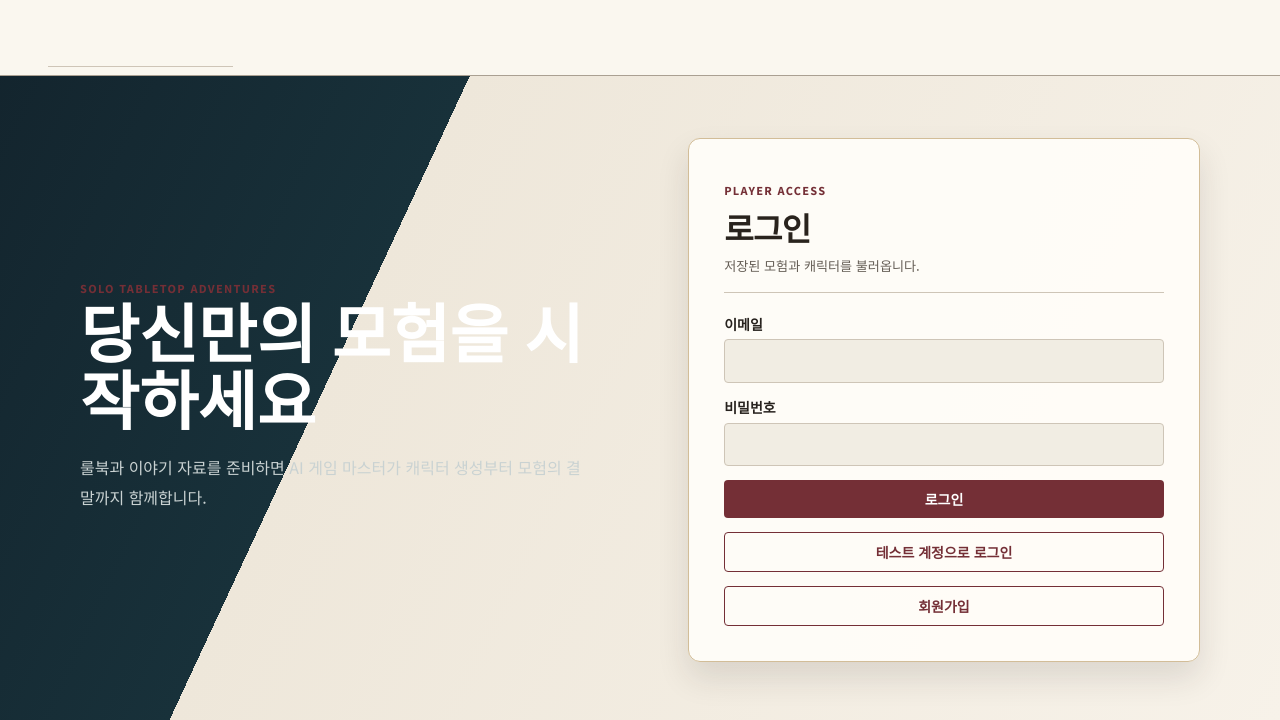
Test: authentication flow › expires authentication, hides navigation, and announces reauthentication
The image size is (1280, 720).
(page scrolled)
In the field labelled "이메일": (944,361) [724,339,1164,383], type "hero@example.com"
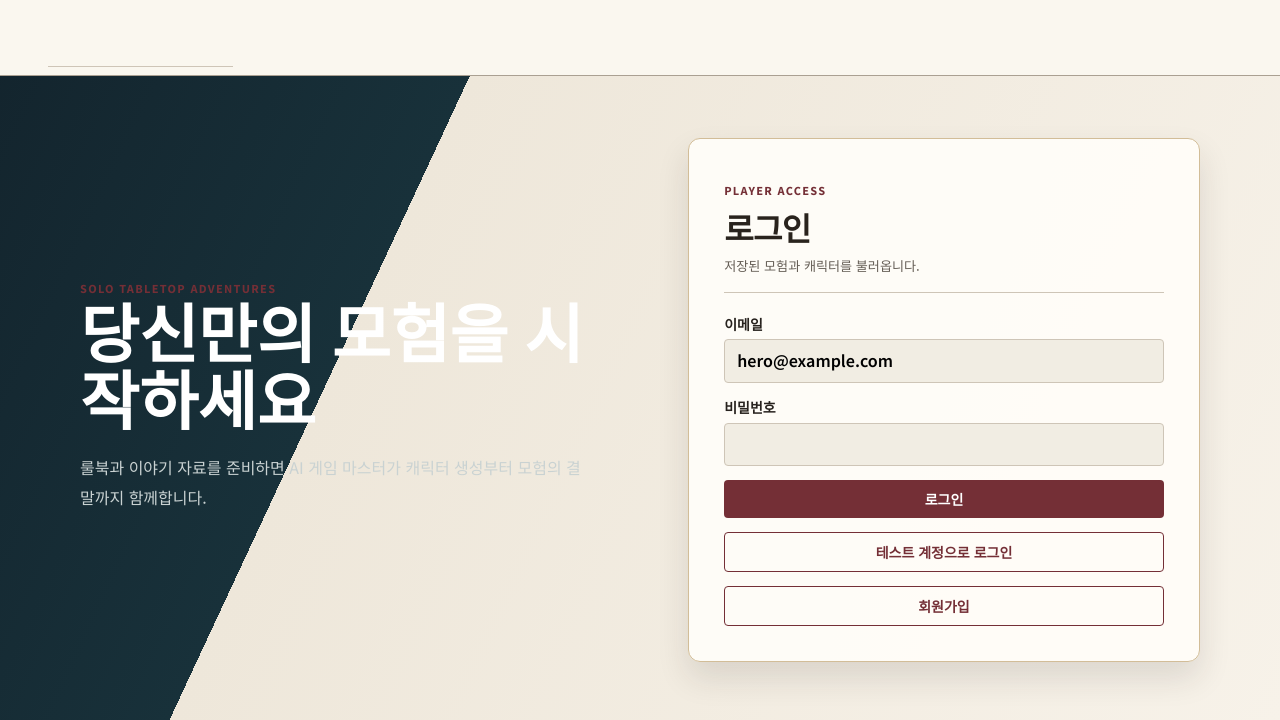
In the password field labelled "비밀번호": (944,444) [724,422,1164,466], type "swordfish"
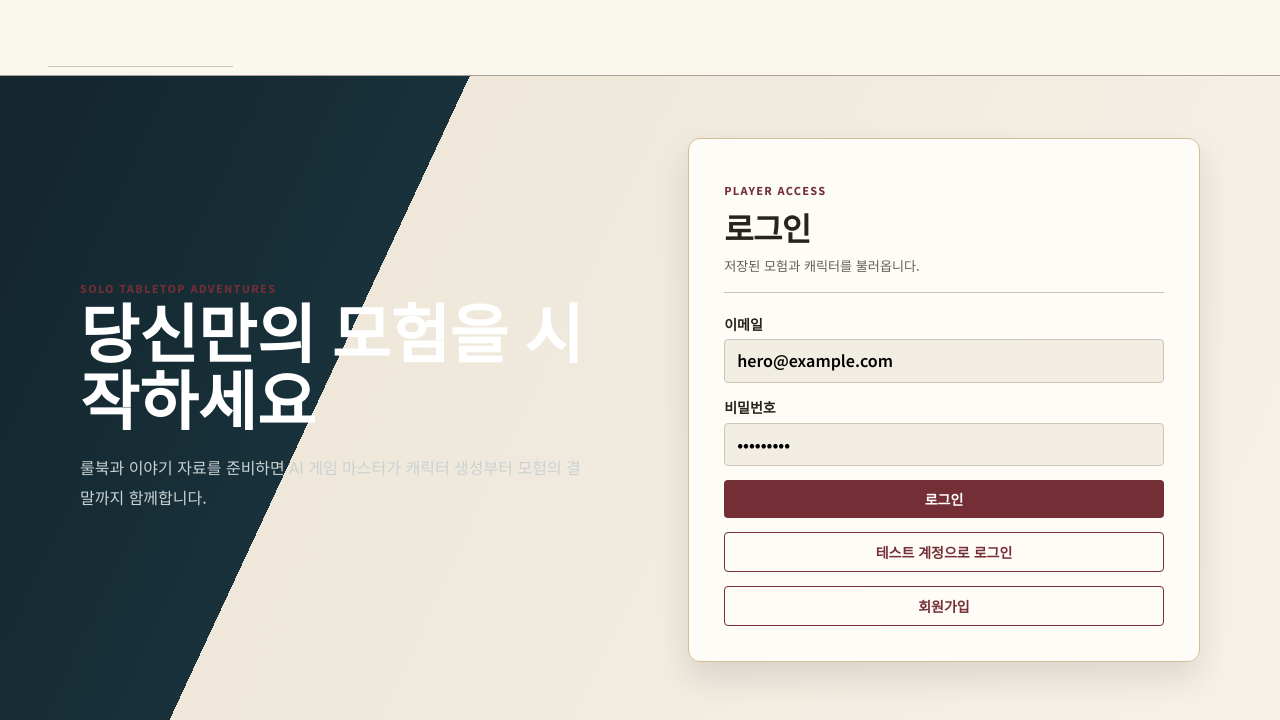
Click the button "로그인": (944,499) [724,480,1164,518]
Wait 1001 ms
(page scrolled)
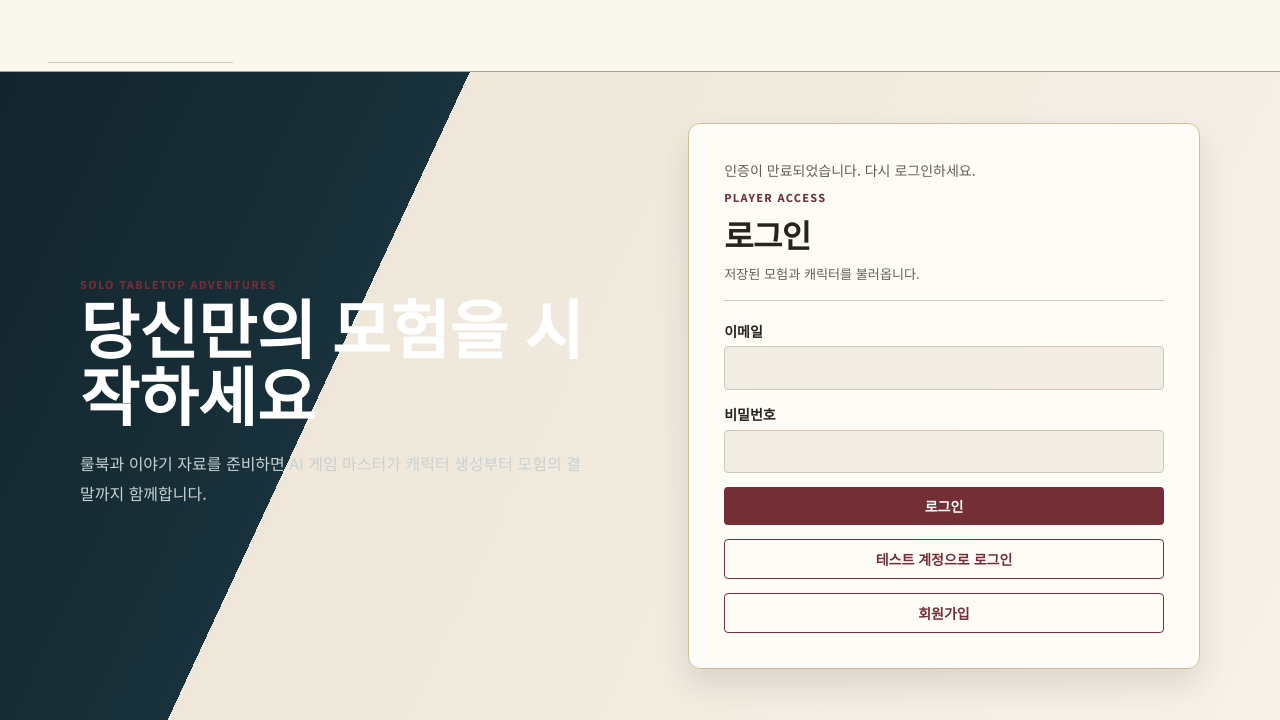
Expected: the heading "로그인" is shown, [724,219,811,255]
Result: the message shows "인증이 만료되었습니다." at [724,160,976,180]
